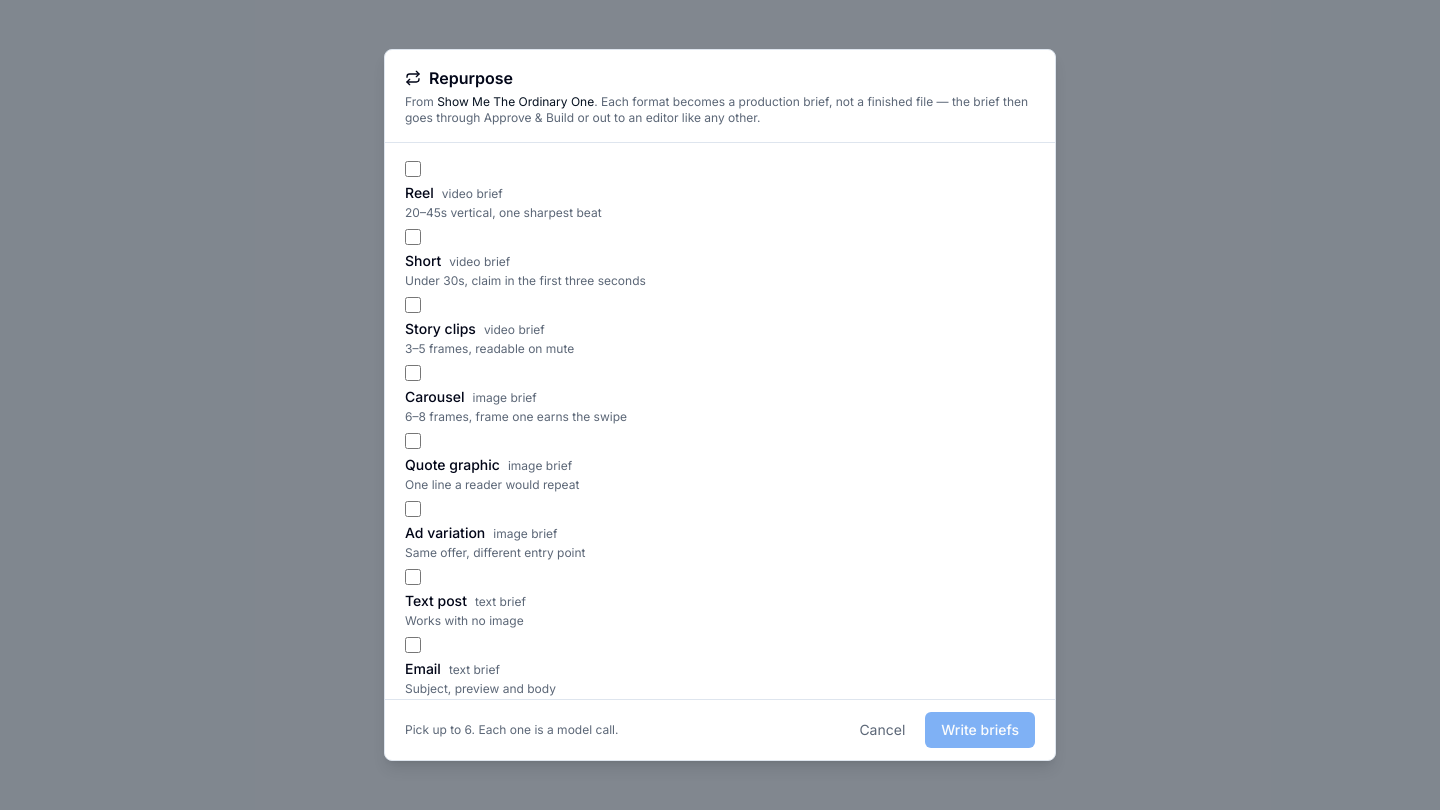
Scenario: RepurposeModal — choosing formats › shows what it will cost before committing
Click the checkbox labelled "Reel video brief 20–45s vertical, one sharpest beat" at x=413, y=169, box [405,161,421,177]
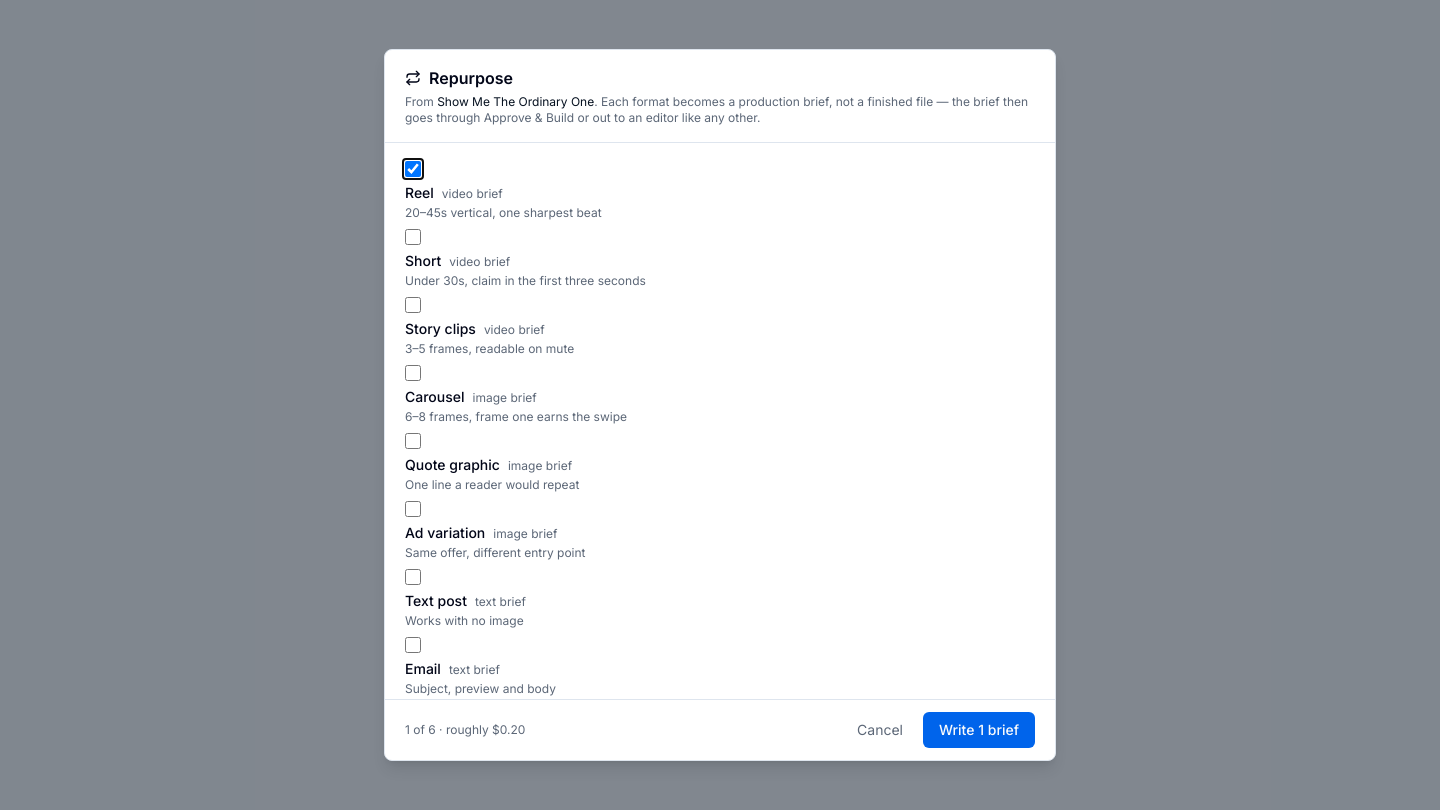
Click the checkbox labelled "Carousel image brief 6–8 frames, frame one earns the swipe" at x=413, y=373, box [405,365,421,381]
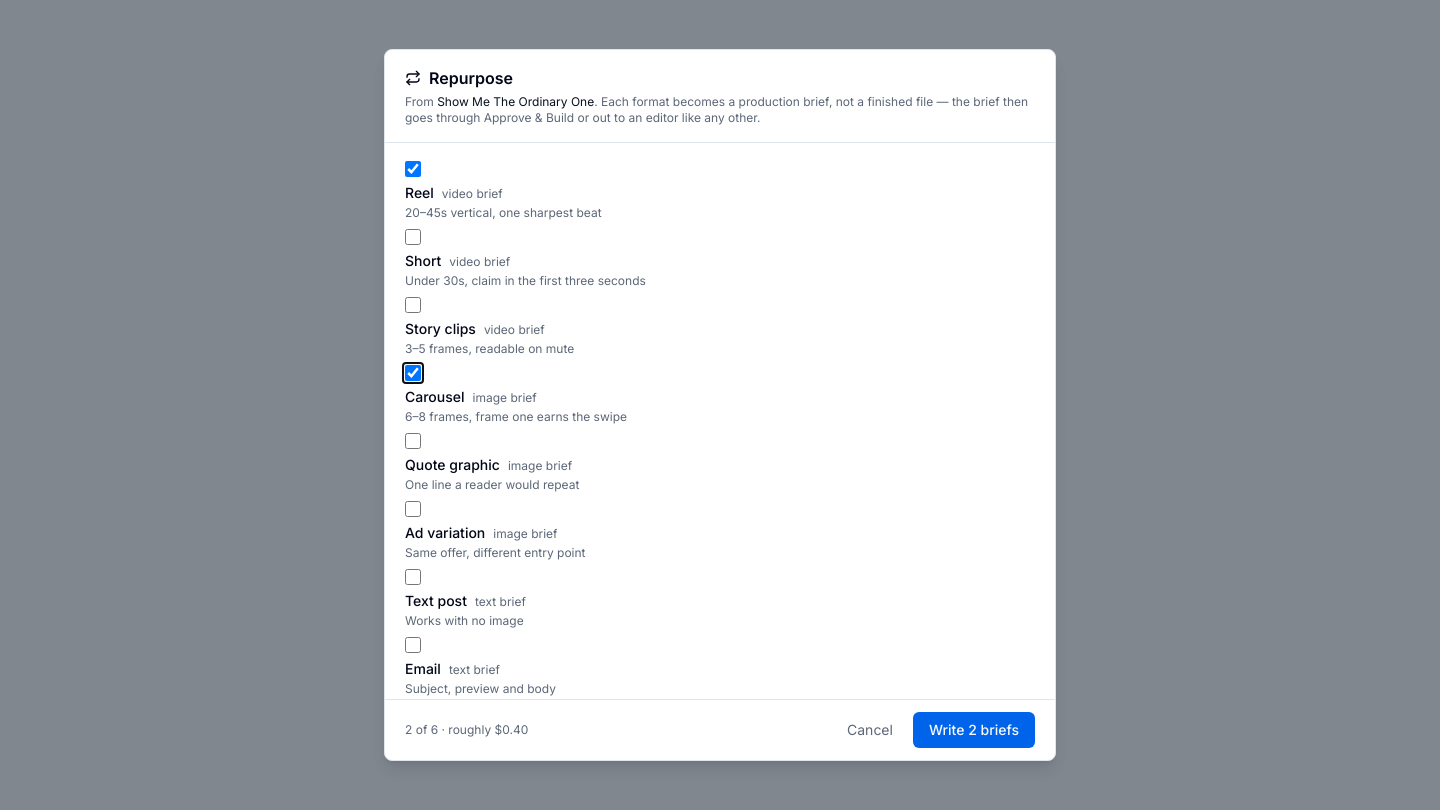
Check: the text "2 of 6 · roughly $0.40" is shown, box [405,722,528,738]
